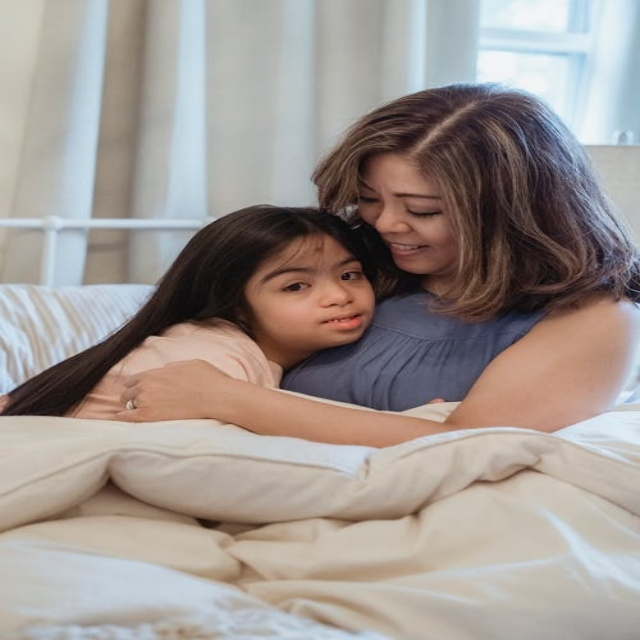Sin_gafas: (353, 173, 447, 222), (257, 258, 365, 298)
Sin_guantes: (108, 352, 241, 423)
Sin_mascara: (298, 305, 372, 338), (381, 236, 444, 266)
